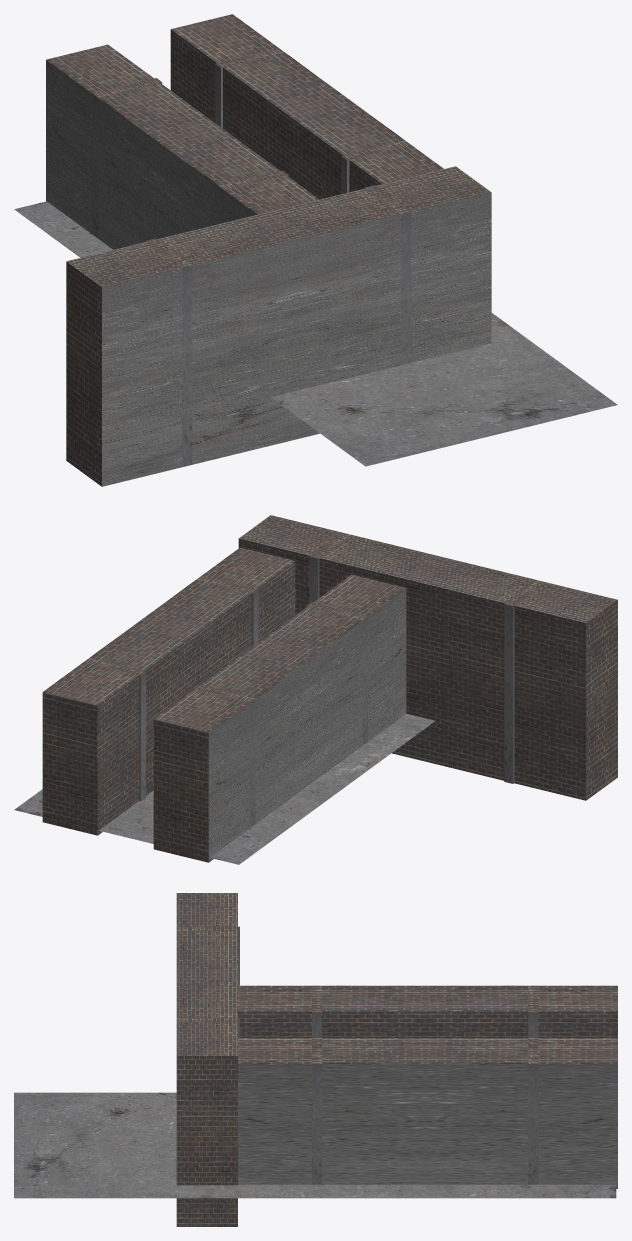
File: alleyway.glb
The picture shows the model from 3 angles, top to bottom: view 1: azimuth 30°, elevation 25°; view 2: azimuth 150°, elevation 25°; view 3: azimuth 270°, elevation 25°; orthographic projection. The views are drawn at different scales.
Visible parts, largest first — view 1: far building, walls, ground; view 2: walls, far building, ground; view 3: walls, ground, far building.
Part boxes in pixels (box(x1,y1,x2,y2)): far building: box(66, 166, 491, 486); walls: box(46, 14, 443, 249); ground: box(14, 201, 617, 466); walls: box(42, 547, 406, 862); far building: box(238, 515, 617, 800); ground: box(14, 713, 435, 864); walls: box(238, 985, 617, 1188); ground: box(14, 1092, 616, 1198); far building: box(176, 893, 239, 1226).
Size of the model in its own units: 87.54 by 39.59 by 127.
7 materials, 5 textured.
